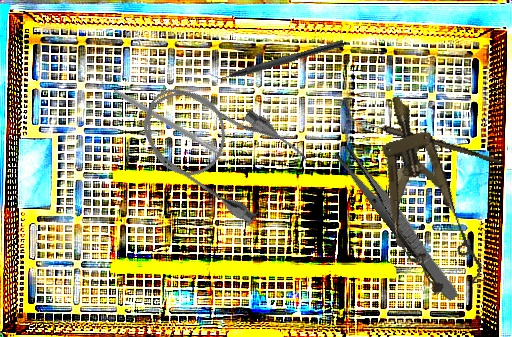Cannula: (124, 62, 313, 232)
Chopper: (207, 30, 345, 87)
Dressing Forceps: (332, 142, 464, 304)
Spatula Surgical: (92, 72, 228, 158)
Speculum: (357, 86, 490, 301)
Surgical Spoon: (340, 113, 503, 165)
